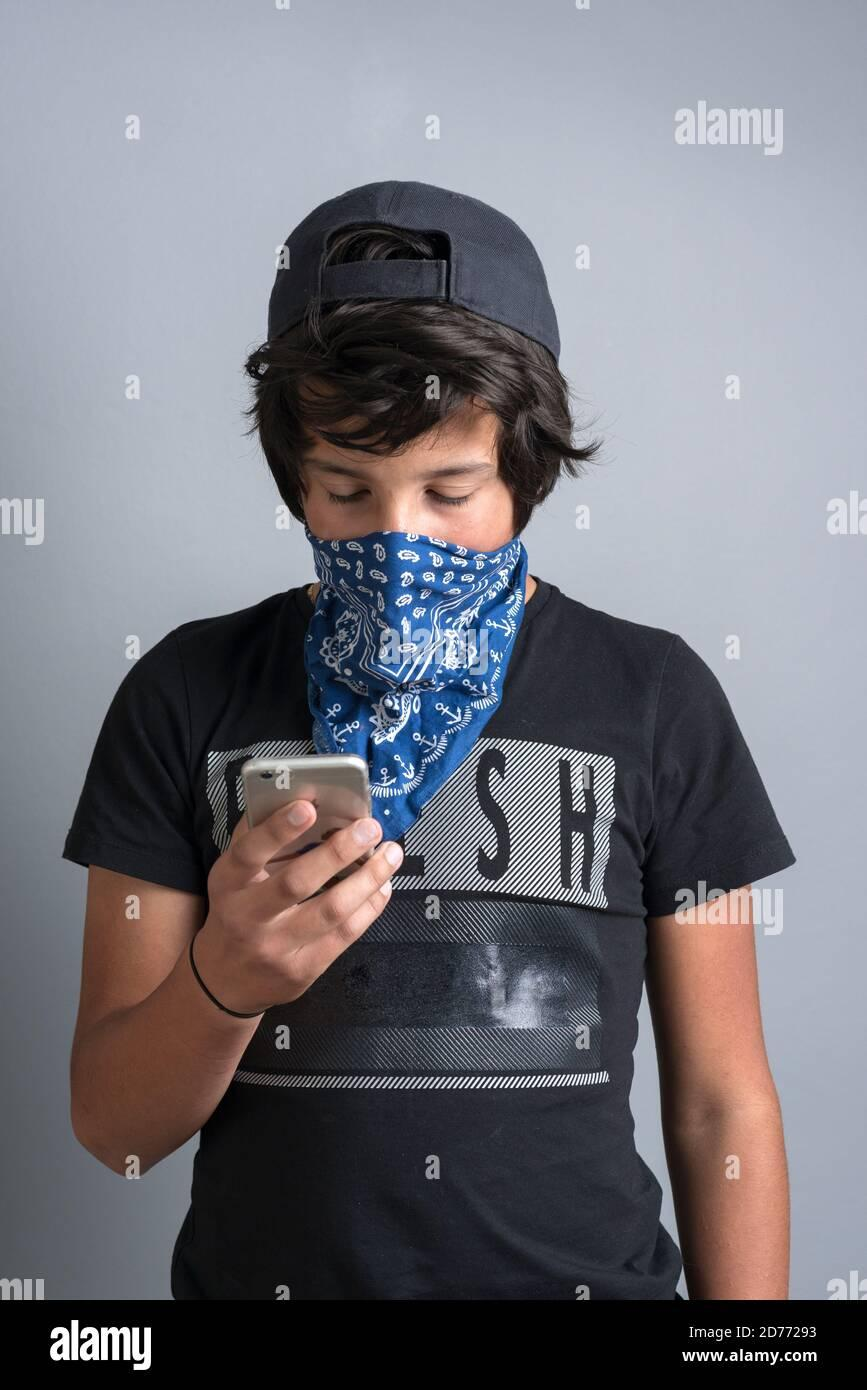cap: (240, 170, 587, 407)
scarf-kerchief: (287, 517, 547, 837)
